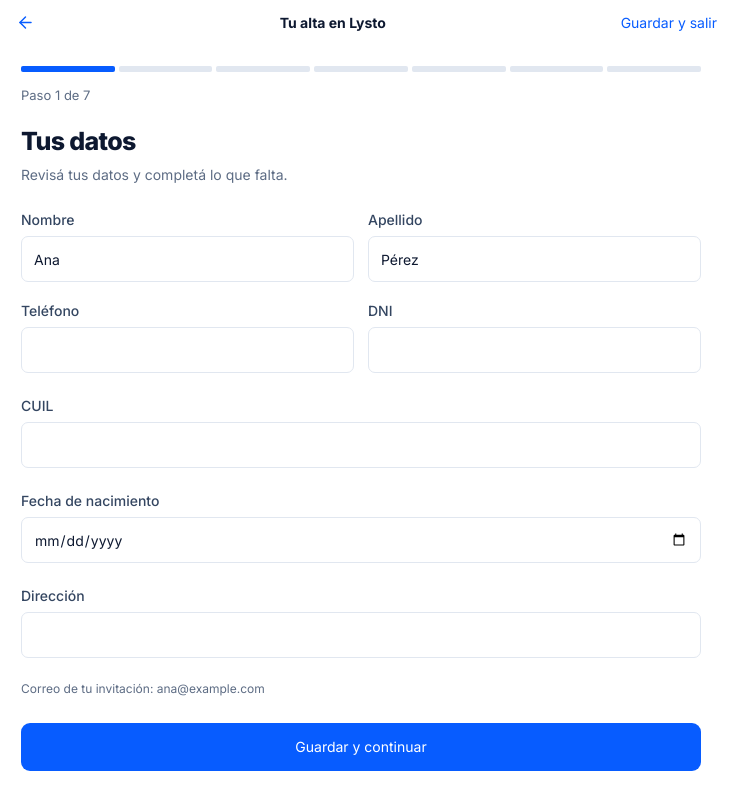
Test: validates only the current group without requesting incomplete future groups
Click the button "Guardar y continuar".
click(361, 747)  # box [21,723,701,771]
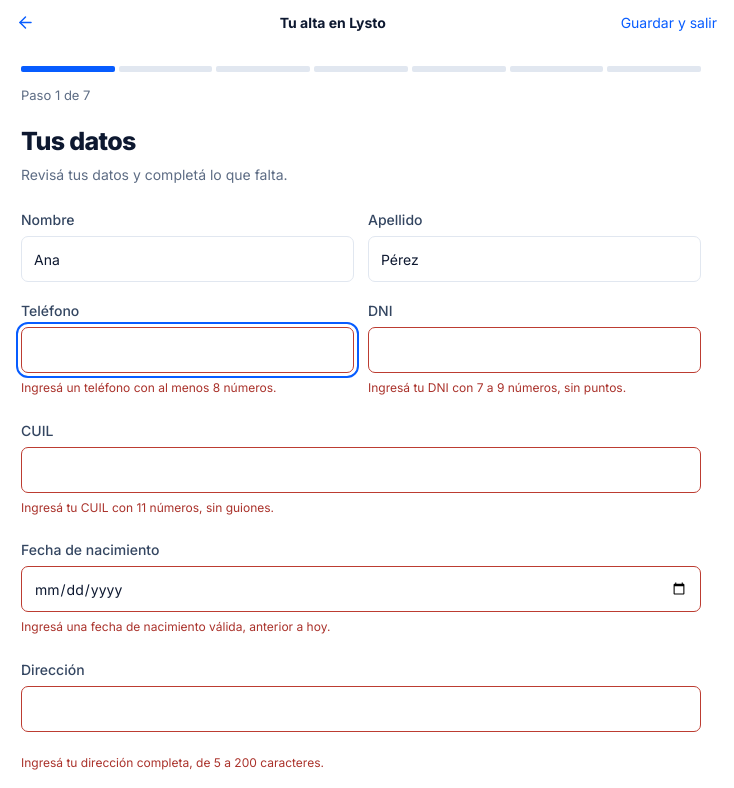
Expected: the text "Ingresá un teléfono con al menos 8 números." is shown, [21,380,276,395]
